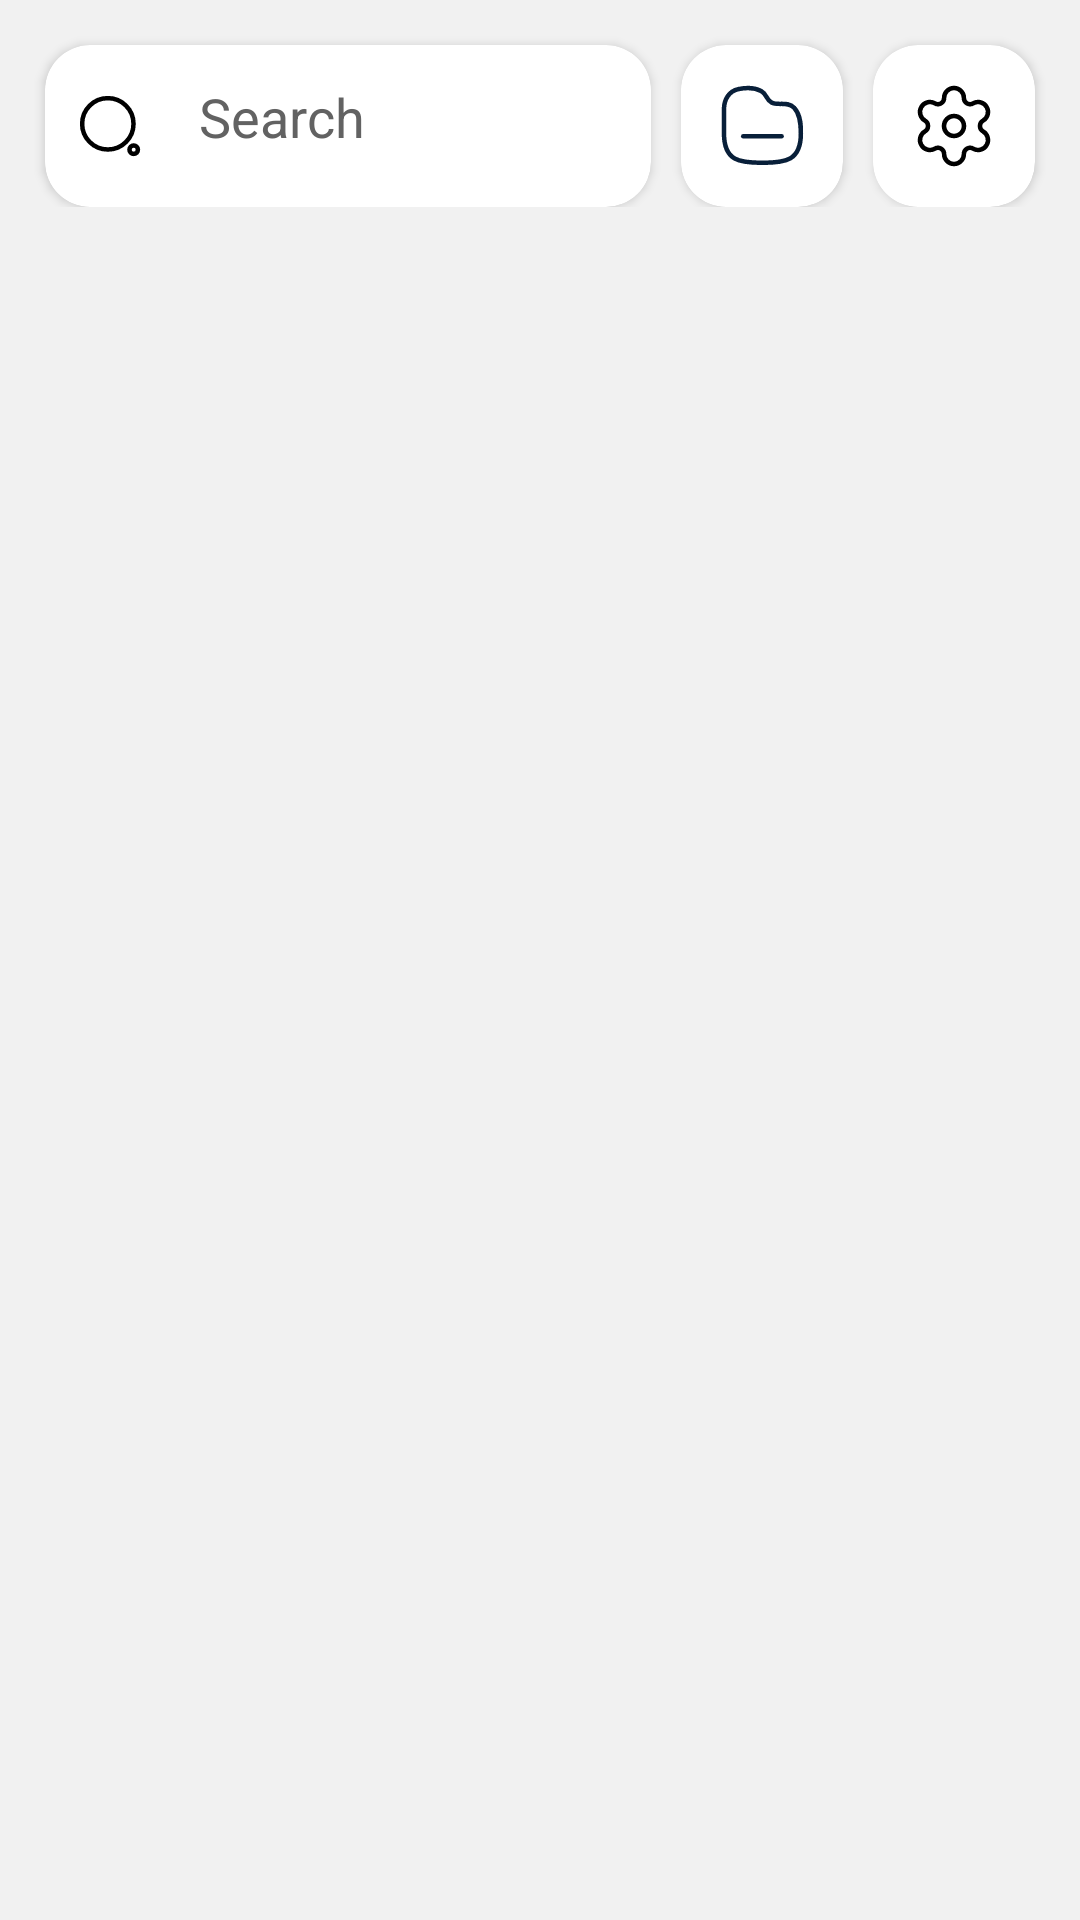

Point at icon controls on the screen. Image size 1080px×1920px, points as (x,y).
folder: (762,125)
setting: (954,126)
